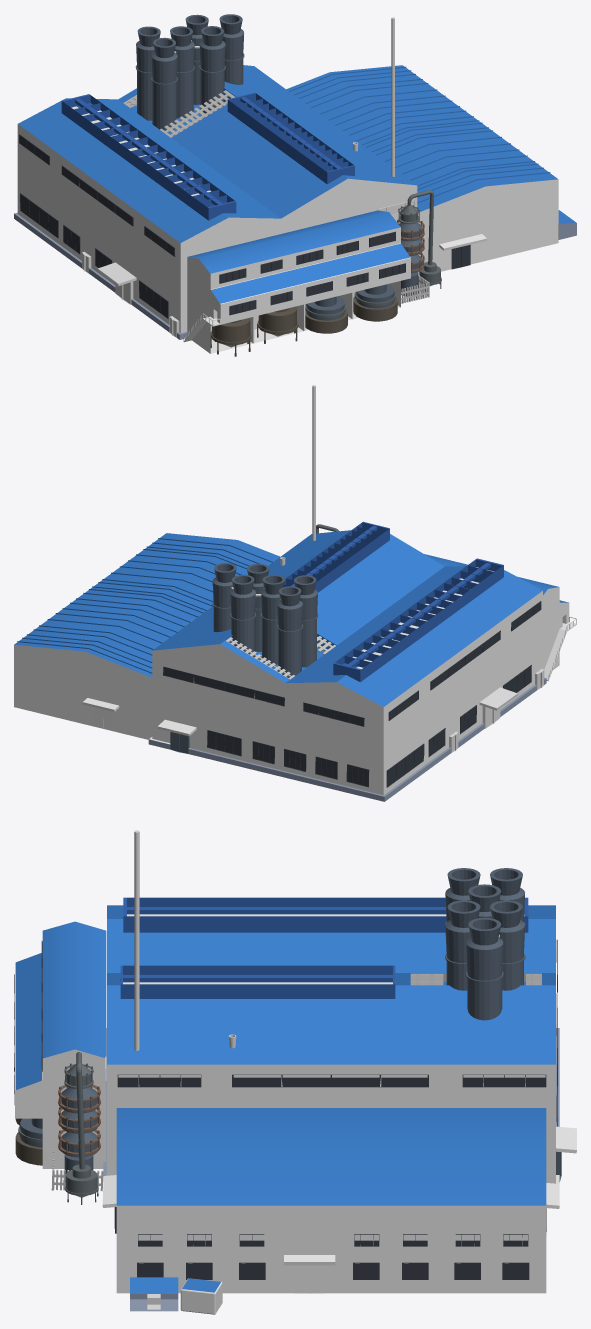
Rendered from fang1.dae.
3 renders of one model, top to bottom at view 1: azimuth 30°, elevation 25°; view 2: azimuth 150°, elevation 25°; view 3: azimuth 270°, elevation 25°, orthographic. The views are drawn at different scales.
Visible parts, largest first — view 1: pCube3, pasted__pCube2_group16, pCube6, pasted__pCube4_group46, pCube4, group30_pasted__pasted__pasted__pCylinder2_pasted__pasted__g, pasted__pasted__pasted__pasted__pasted__pasted__pasted__past (×3), pasted__pasted__pCylinder2_pasted__group25_group29, pasted__pCylinder2_group25, pasted__pasted__pasted__pCylinder2_pasted__pasted__group25_p, pasted__pasted__pasted__pCylinder2_pasted__pasted__group24_p, pasted__group85_group117_pasted__pasted__pasted__pCylinder2_ (×2) (+12 smaller); view 2: pCube3, pasted__pCube2_group16, pasted__pCube4_group46, pasted__pasted__pasted__pasted__pasted__pasted__pasted__past (×5), pCube4, pCube6, pasted__pasted__pasted__pCylinder2_pasted__pasted__group25_p, pasted__pasted__pCylinder2_pasted__group25_group28, pasted__pCylinder2_group25, group30_pasted__pasted__pasted__pCylinder2_pasted__pasted__g, pasted__pasted__pasted__pCylinder2_pasted__pasted__group24_p, group46_pasted__pCube5 (+3 smaller); view 3: pasted__pCube2_group16, pCube3, pCube6, pasted__pCube4_group46, pCube4, pasted__pasted__pasted__pCylinder2_pasted__pasted__group24_p, group23_pasted__pasted__pasted__pasted__pasted__pasted__past (×2), group46_pasted__pCube5, pasted__pasted__pCylinder2_pasted__group25_group28, pasted__pasted__pCube5_pasted__group47_group58, pasted__pasted__pCylinder2_pasted__group25_group29, 立方体 (+9 smaller).
Part boxes in pixels (x1,y1,x2,y2): pCube3: [14, 65, 418, 339]; pasted__pCube2_group16: [286, 65, 558, 274]; pCube6: [183, 210, 410, 353]; pasted__pCube4_group46: [61, 94, 236, 220]; pCube4: [227, 92, 354, 184]; group30_pasted__pasted__pasted__pCylinder2_pasted__pasted__g: [151, 37, 177, 130]; pasted__pasted__pasted__pasted__pasted__pasted__pasted__past (×3): [20, 165, 168, 318]; pasted__pasted__pCylinder2_pasted__group25_group29: [199, 26, 225, 115]; pasted__pCylinder2_group25: [170, 26, 194, 118]; pasted__pasted__pasted__pCylinder2_pasted__pasted__group25_p: [135, 26, 160, 120]; pasted__pasted__pasted__pCylinder2_pasted__pasted__group24_p: [219, 14, 244, 84]; pasted__group85_group117_pasted__pasted__pasted__pCylinder2_ (×2): [353, 284, 397, 321]; pCube3: [148, 530, 546, 801]; pasted__pCube2_group16: [14, 533, 279, 739]; pasted__pCube4_group46: [333, 558, 503, 682]; pasted__pasted__pasted__pasted__pasted__pasted__pasted__past (×5): [163, 630, 500, 787]; pCube4: [283, 521, 389, 592]; pCube6: [424, 554, 576, 681]; pasted__pasted__pasted__pCylinder2_pasted__pasted__group25_p: [277, 586, 303, 677]; pasted__pasted__pCylinder2_pasted__group25_group28: [230, 575, 256, 657]; pasted__pCylinder2_group25: [261, 574, 285, 664]; group30_pasted__pasted__pasted__pCylinder2_pasted__pasted__g: [294, 575, 318, 667]; pasted__pasted__pasted__pCylinder2_pasted__pasted__group24_p: [212, 563, 236, 632]; group46_pasted__pCube5: [346, 563, 490, 667]; pasted__pCube2_group16: [116, 1108, 546, 1293]; pCube3: [103, 905, 559, 1183]; pCube6: [15, 921, 106, 1168]; pasted__pCube4_group46: [123, 897, 528, 932]; pCube4: [120, 965, 395, 998]; pasted__pasted__pasted__pCylinder2_pasted__pasted__group24_p: [465, 917, 503, 1020]; group23_pasted__pasted__pasted__pasted__pasted__pasted__past (×2): [117, 1074, 428, 1087]; group46_pasted__pCube5: [127, 907, 524, 914]; pasted__pasted__pCylinder2_pasted__group25_group28: [490, 900, 525, 990]; pasted__pasted__pCube5_pasted__group47_group58: [120, 975, 392, 982]; pasted__pasted__pCylinder2_pasted__group25_group29: [445, 900, 480, 990]; 立方体: [130, 1277, 178, 1311].
Bounding box in the file's own units: 0.0294 × 0.017 × 0.0243.
